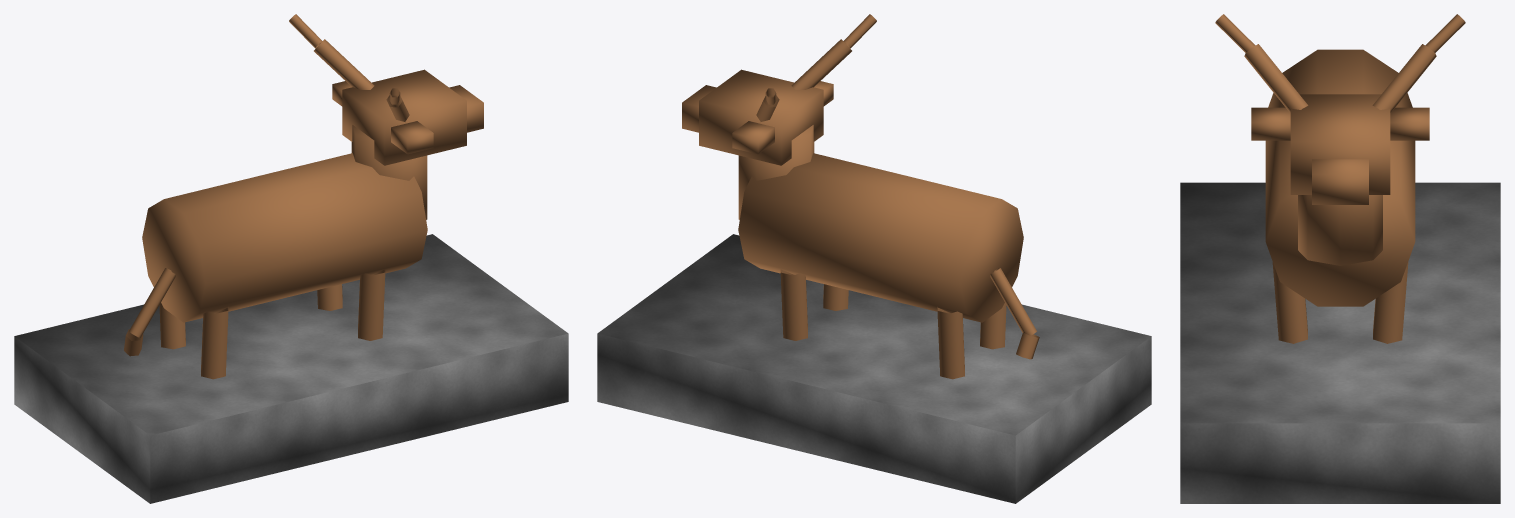
The model's file is bull_statue.glb.
3 views of the same model, side by side, from view 1: azimuth 30°, elevation 25°; view 2: azimuth 150°, elevation 25°; view 3: azimuth 270°, elevation 25° (orthographic). The views are drawn at different scales.
Visible parts, largest first — view 1: bull_statue; view 2: bull_statue; view 3: bull_statue.
Part boxes in pixels (bbox=[...]): bull_statue: bbox=[14, 14, 568, 503]; bull_statue: bbox=[597, 14, 1151, 503]; bull_statue: bbox=[1180, 14, 1500, 503].
Size of the model in its own units: 3.2 by 2.47 by 1.8.
2 materials, 1 textured.
